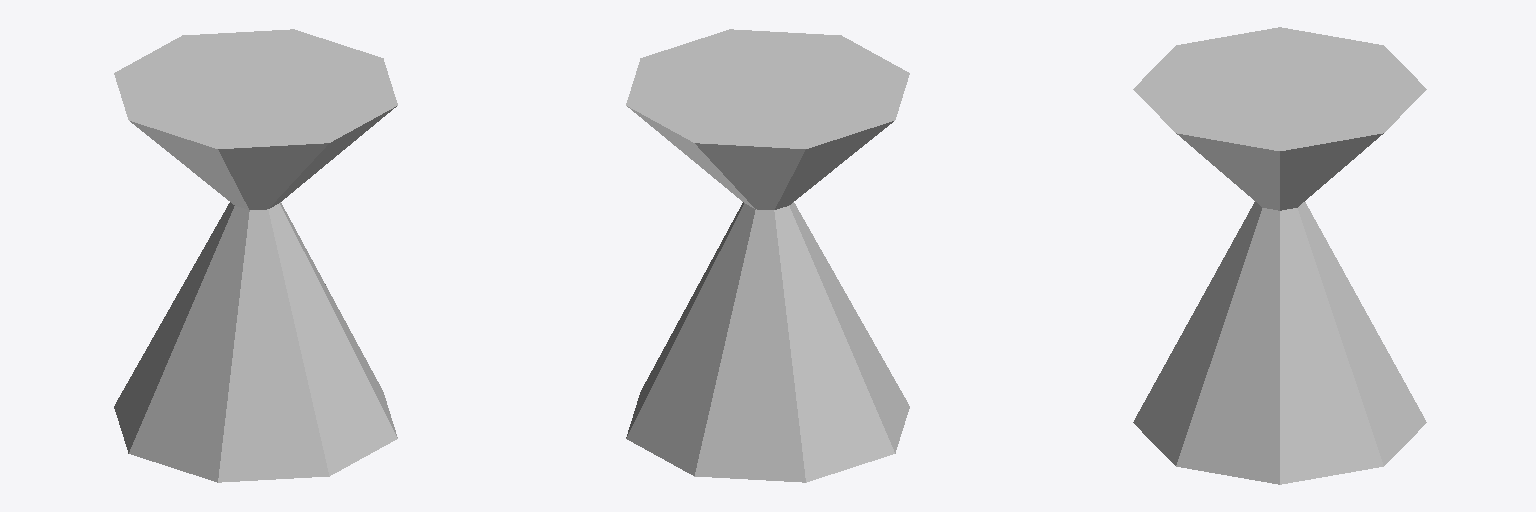
The model's file is demoman.obj.
3 views of the same model, side by side, from view 1: azimuth 30°, elevation 25°; view 2: azimuth 150°, elevation 25°; view 3: azimuth 270°, elevation 25° (orthographic).
Visible parts, largest first — view 1: Cone, Cone.001; view 2: Cone, Cone.001; view 3: Cone, Cone.001.
Part boxes in pixels (x1,y1,x2,y2): Cone: (114,202,397,482); Cone.001: (114,29,397,209); Cone: (626,202,909,482); Cone.001: (626,29,909,209); Cone: (1133,202,1426,484); Cone.001: (1133,27,1426,210).
Bounding box in the file's own units: 2 × 2.5 × 2.